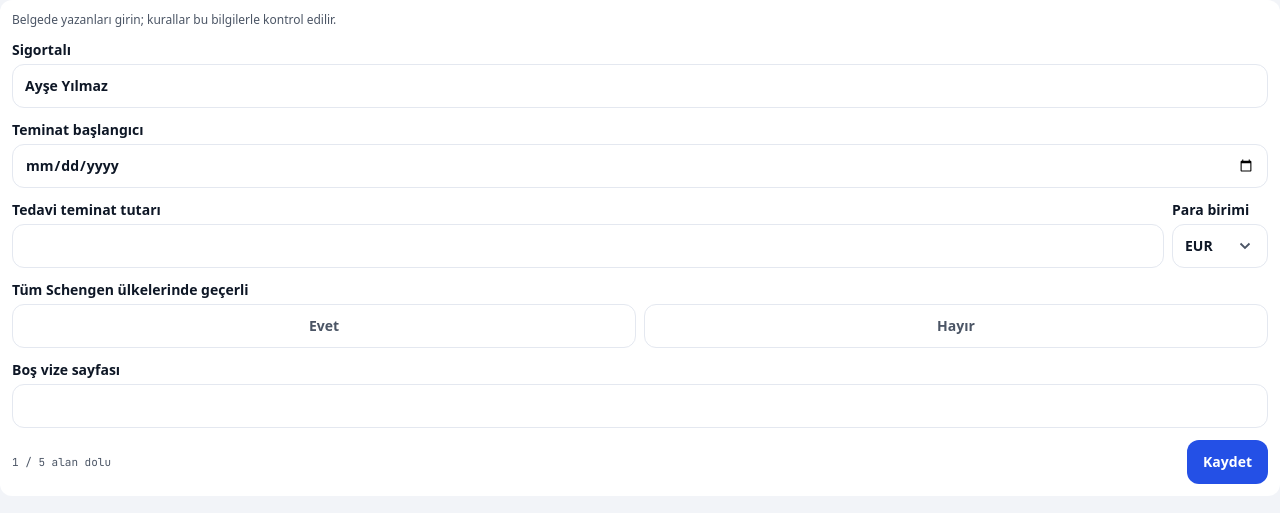
field form › sends every field in its stored form and empty inputs as null
Type "2027-04-10" into the date field labelled "Teminat başlangıcı" at point(640, 166), box [12,144,1268,188]
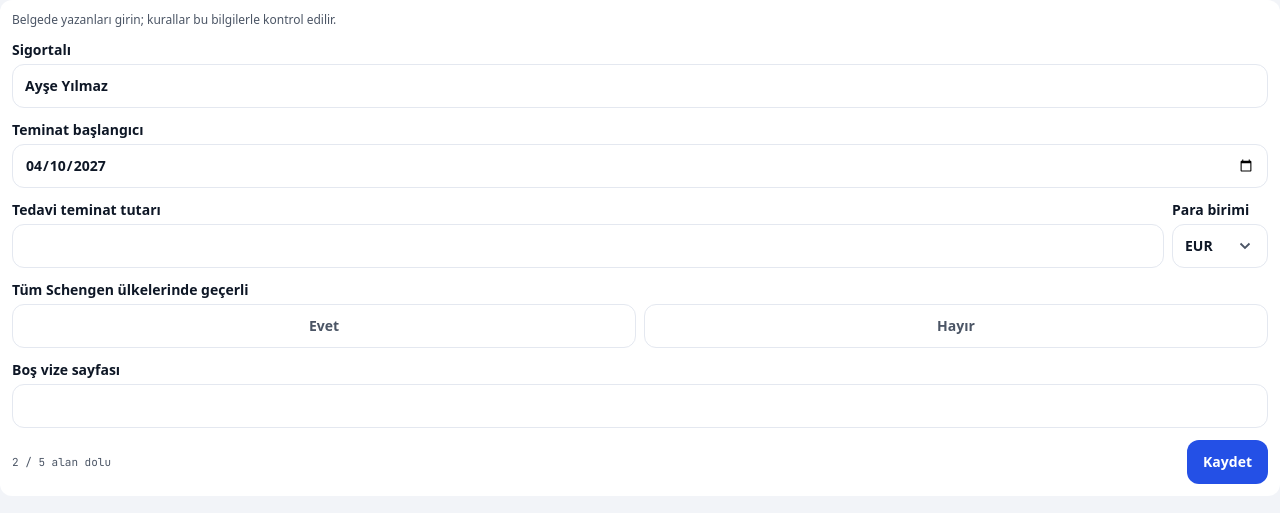
Type "30000" into the number field labelled "Tedavi teminat tutarı" at point(588, 246), box [12,224,1164,268]
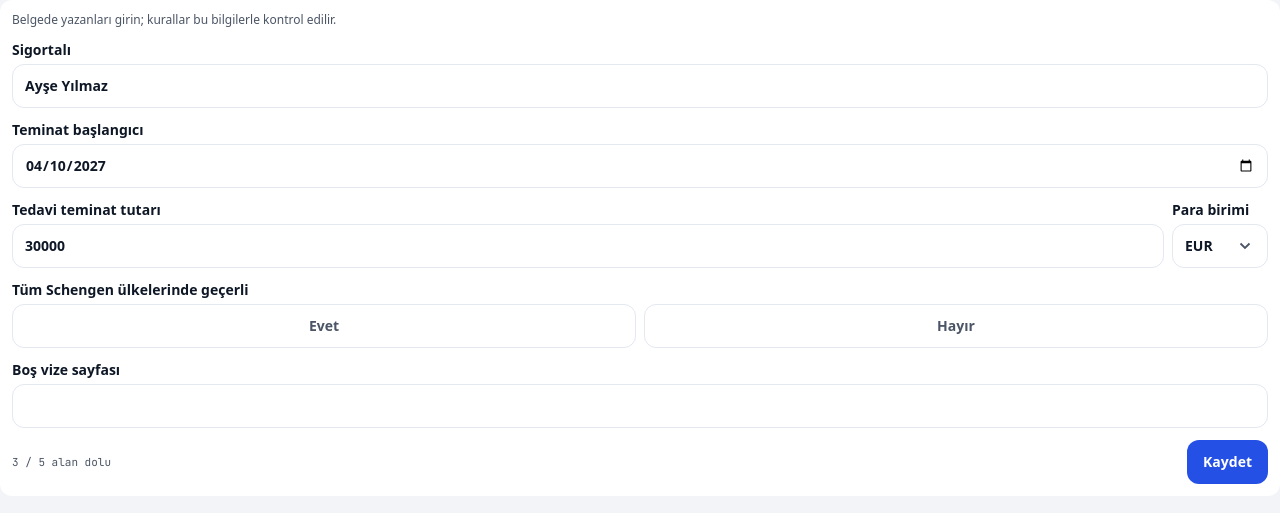
Click the radio button labelled "Evet" at point(324, 326), box [12,304,636,348]
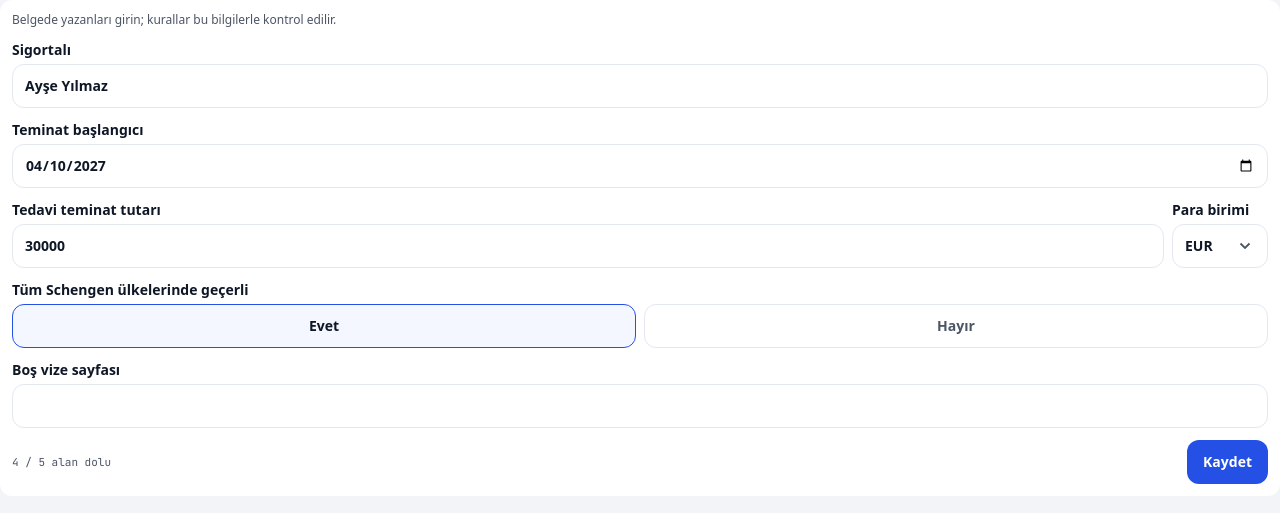
Clear the field labelled "Sigortalı" at point(640, 86), box [12,64,1268,108]
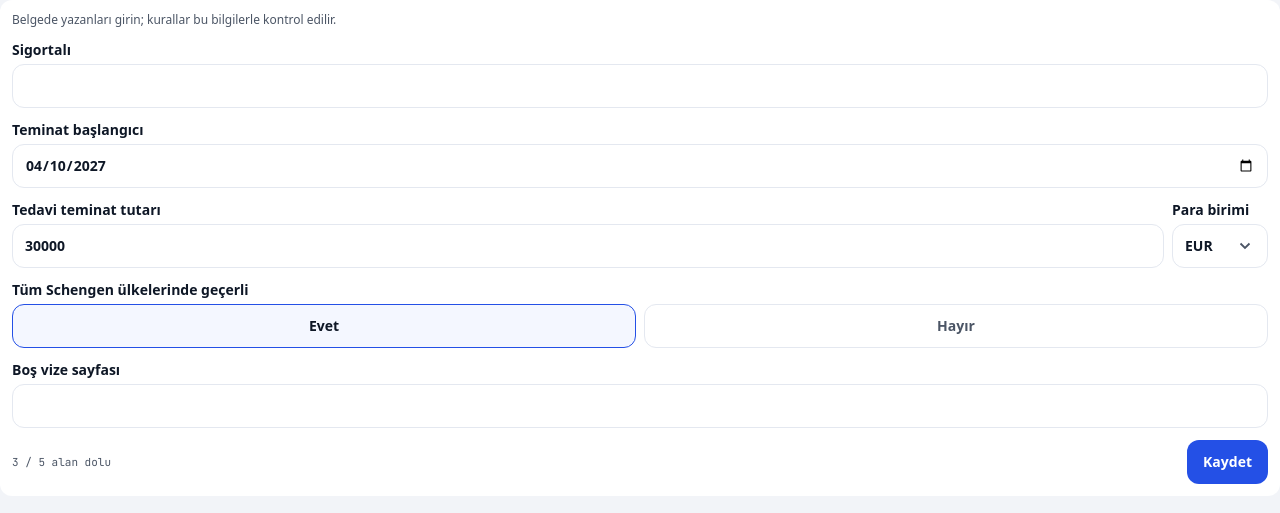
Click the button "Kaydet" at point(1228, 462), box [1187,440,1268,484]
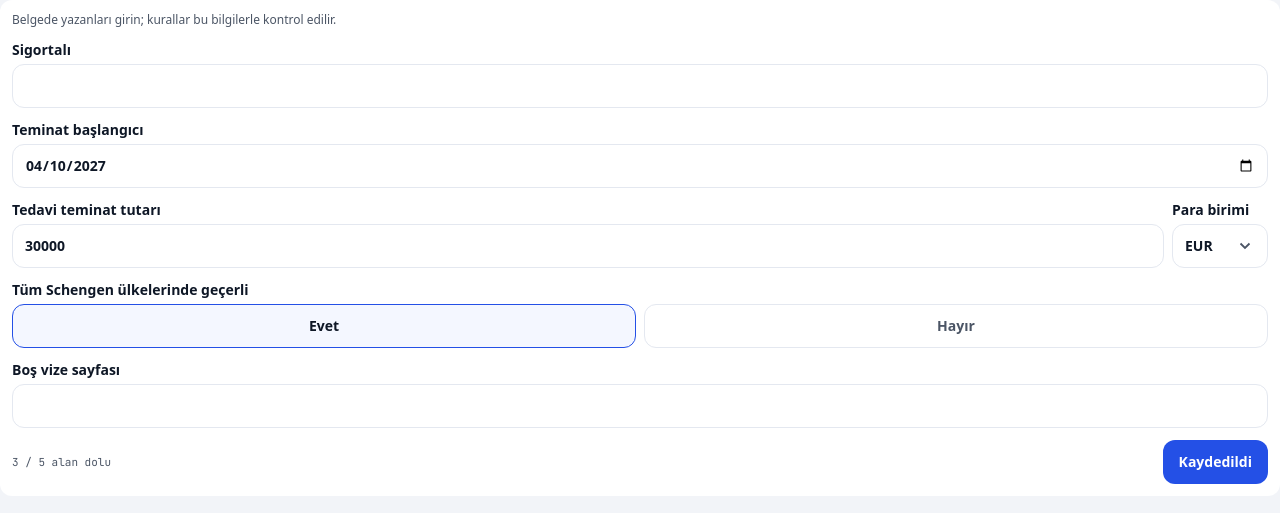
Expected: the button "Kaydedildi" is shown, [1163,440,1268,484]
